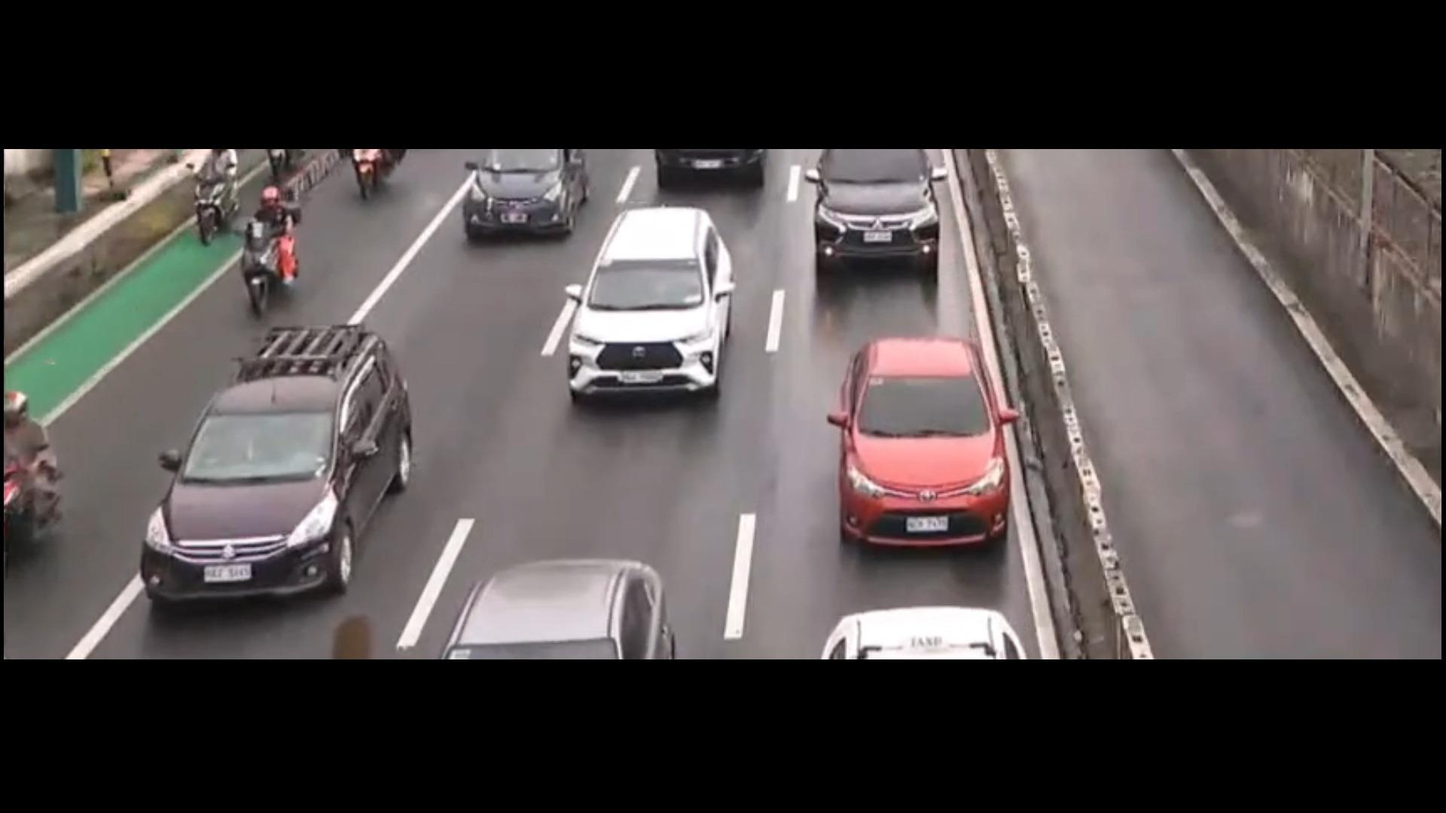Motorcycle: (0, 377, 76, 581), (212, 190, 320, 318), (198, 147, 255, 250), (343, 145, 412, 202)
SUV: (111, 318, 458, 621), (539, 200, 759, 437), (806, 146, 953, 292), (450, 151, 587, 256)
Sedan: (819, 320, 1025, 565)
